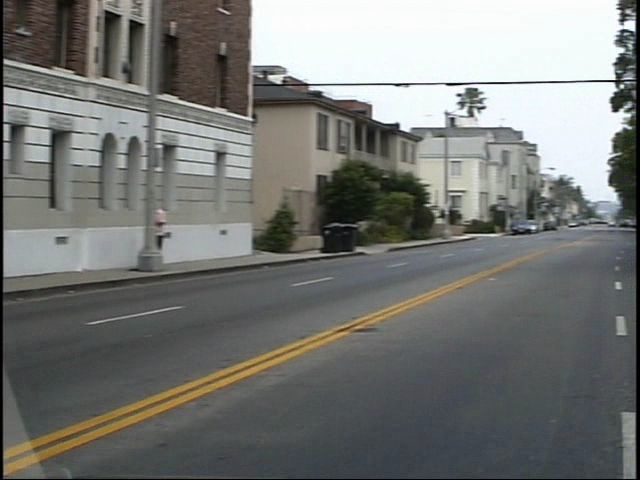person: (158, 193, 193, 268)
